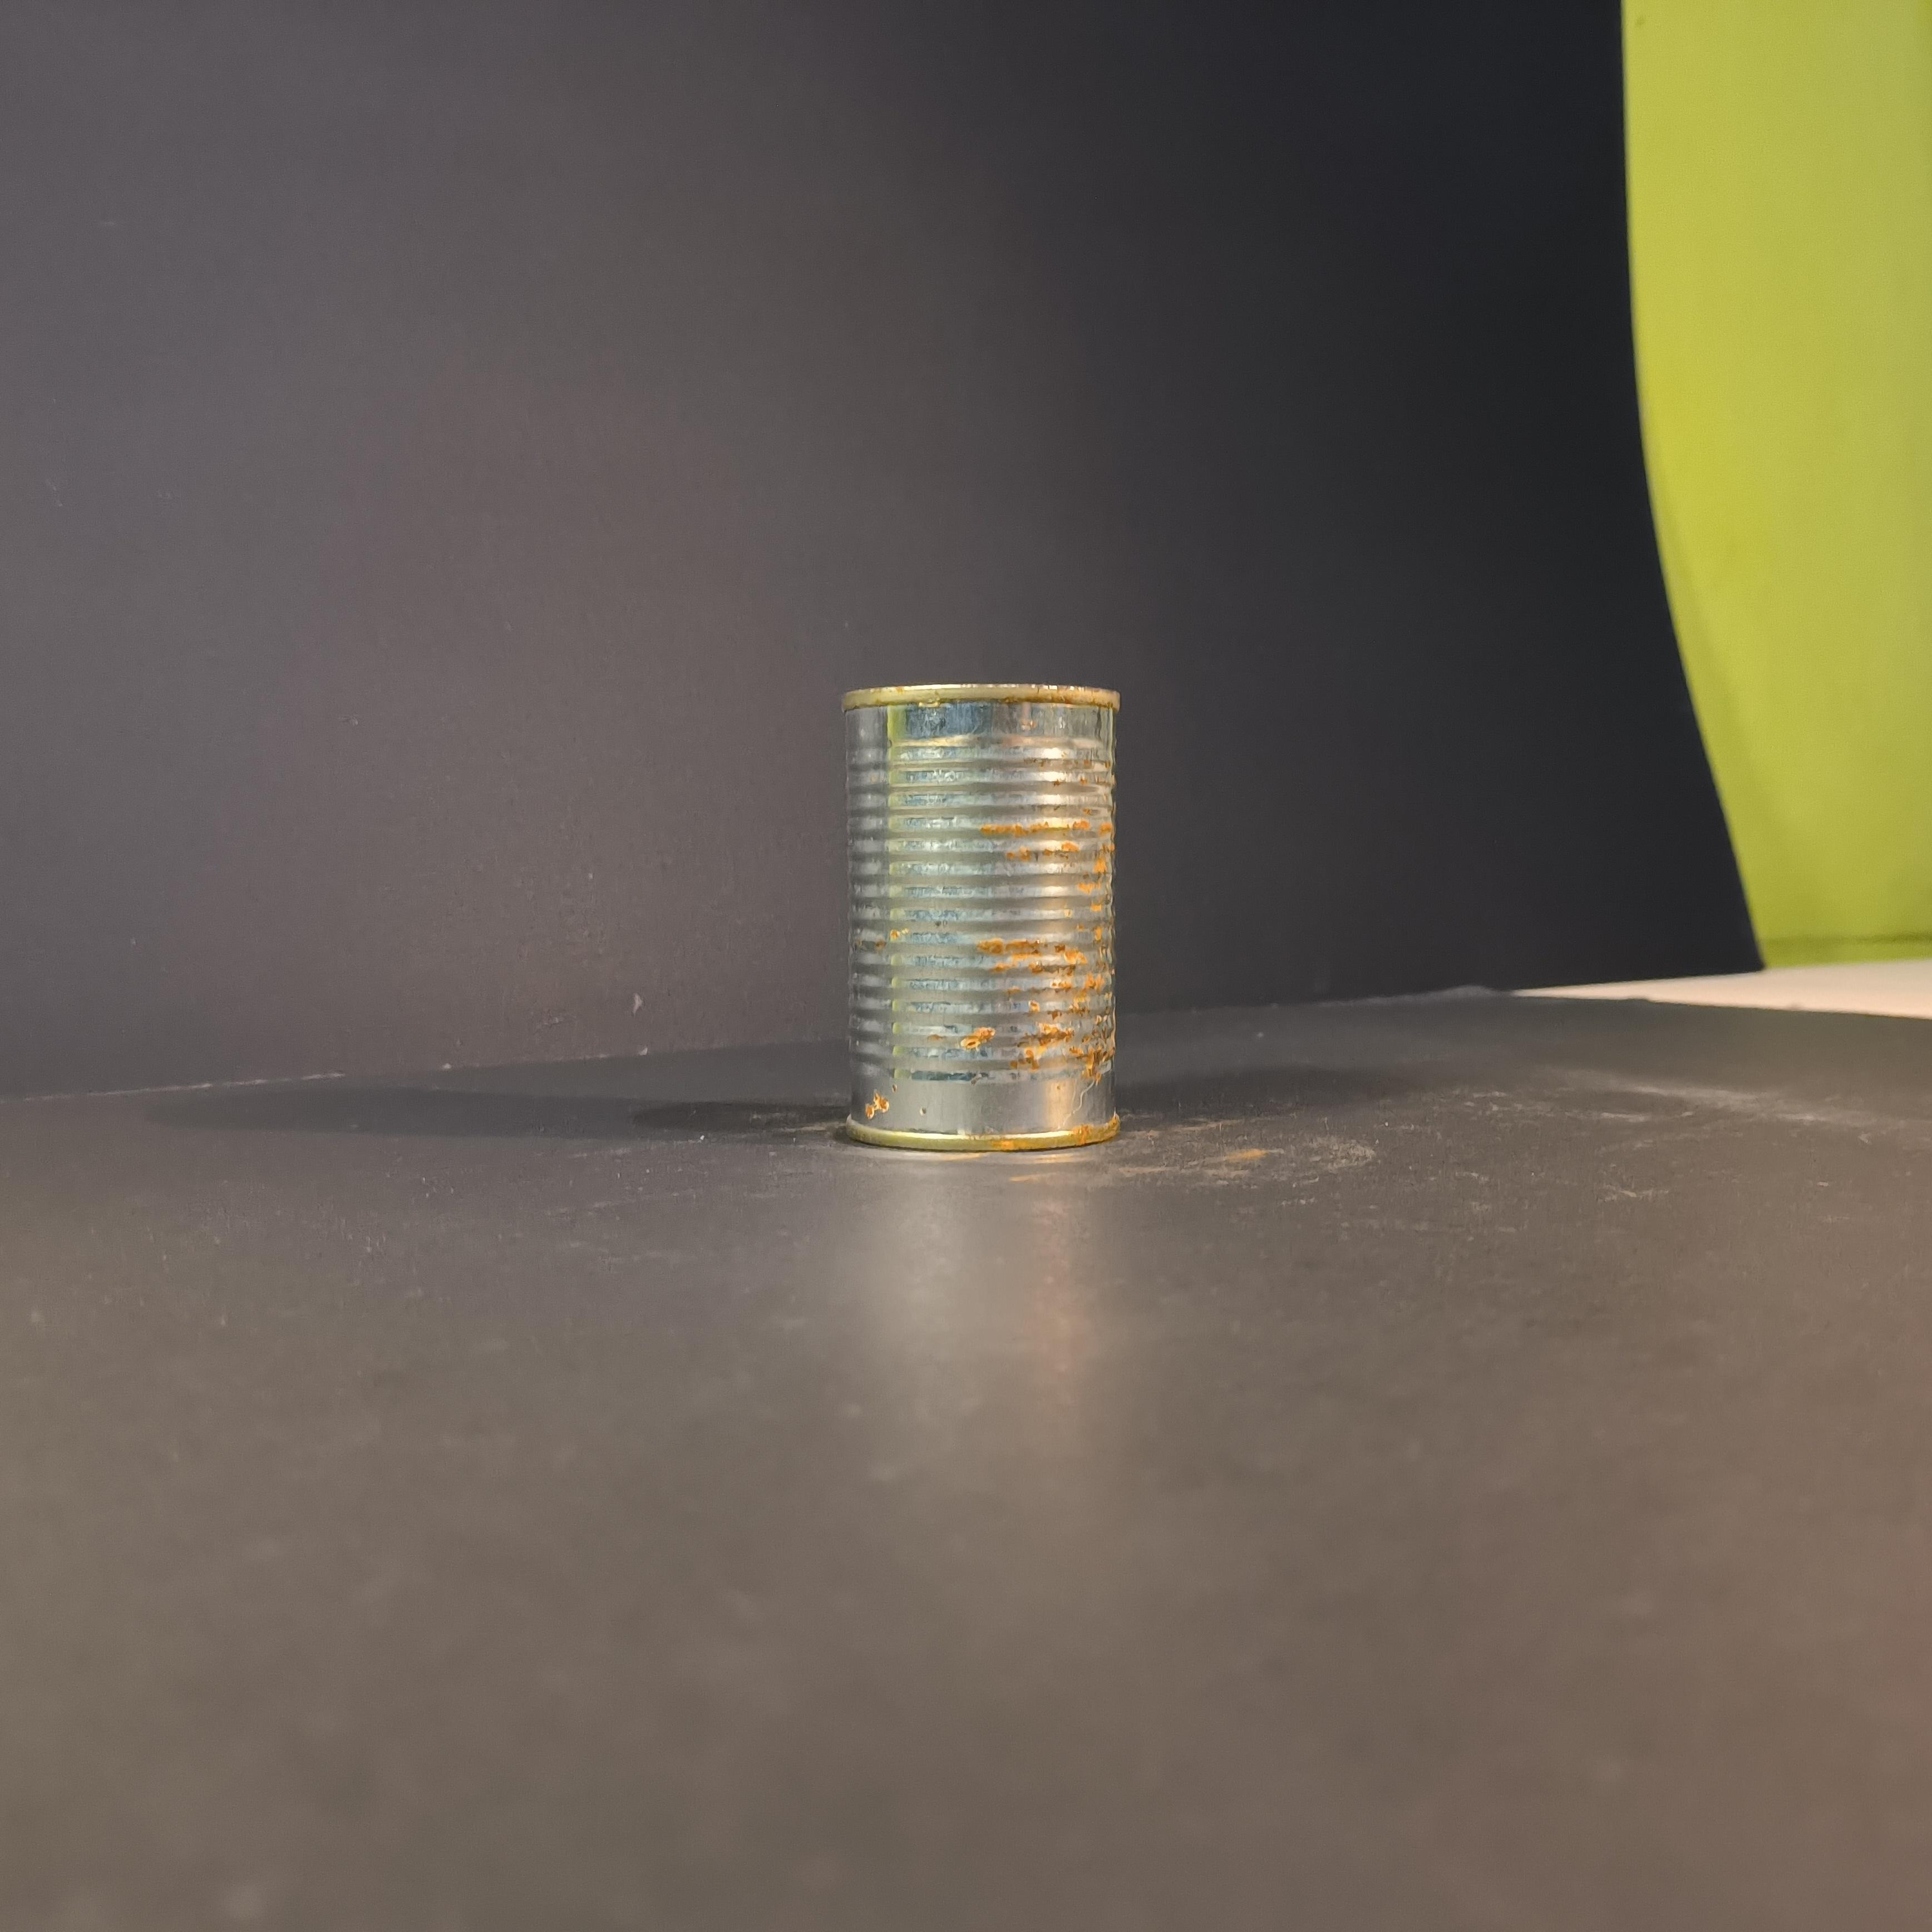Rusted: (821, 671, 1143, 1162)
